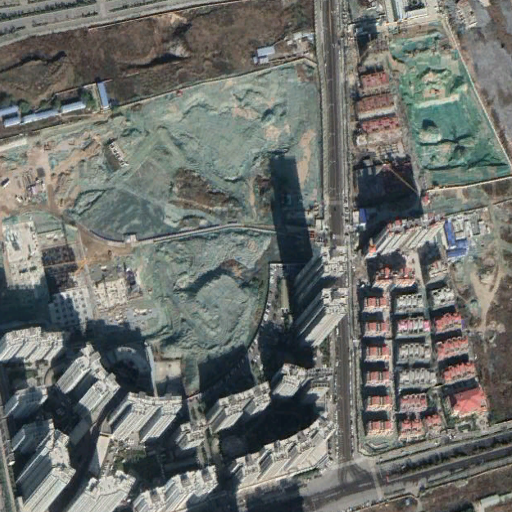cw: (7, 65, 319, 360), (390, 32, 512, 190)
